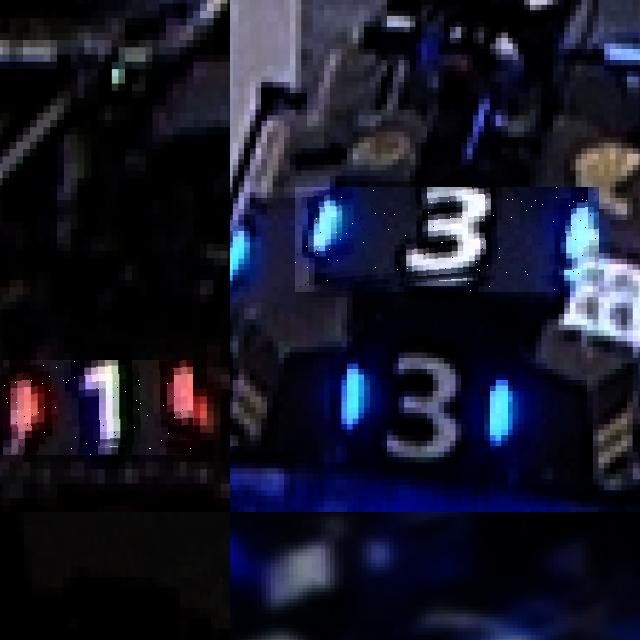B3: (295, 187, 599, 292), (330, 336, 530, 463)
R1: (3, 360, 193, 455)
